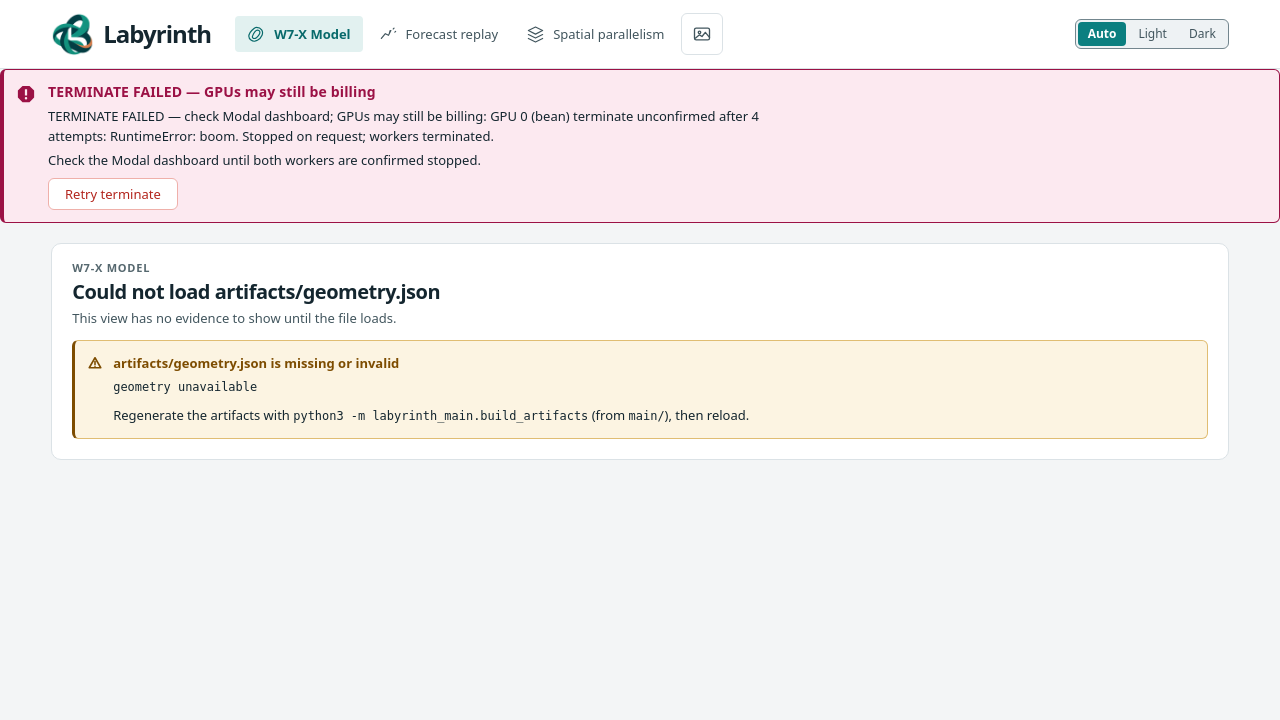
Test case: FE2-1 a view that fails to render during a billing risk leaves the Terminate above it working
The width and height of the screenshot is (1280, 720).
Expected: the heading "Could not load artifacts/geometry.json" is shown, [72,278,440,306]
Click the button "Retry terminate" at (113, 194), box [48,178,178,210]
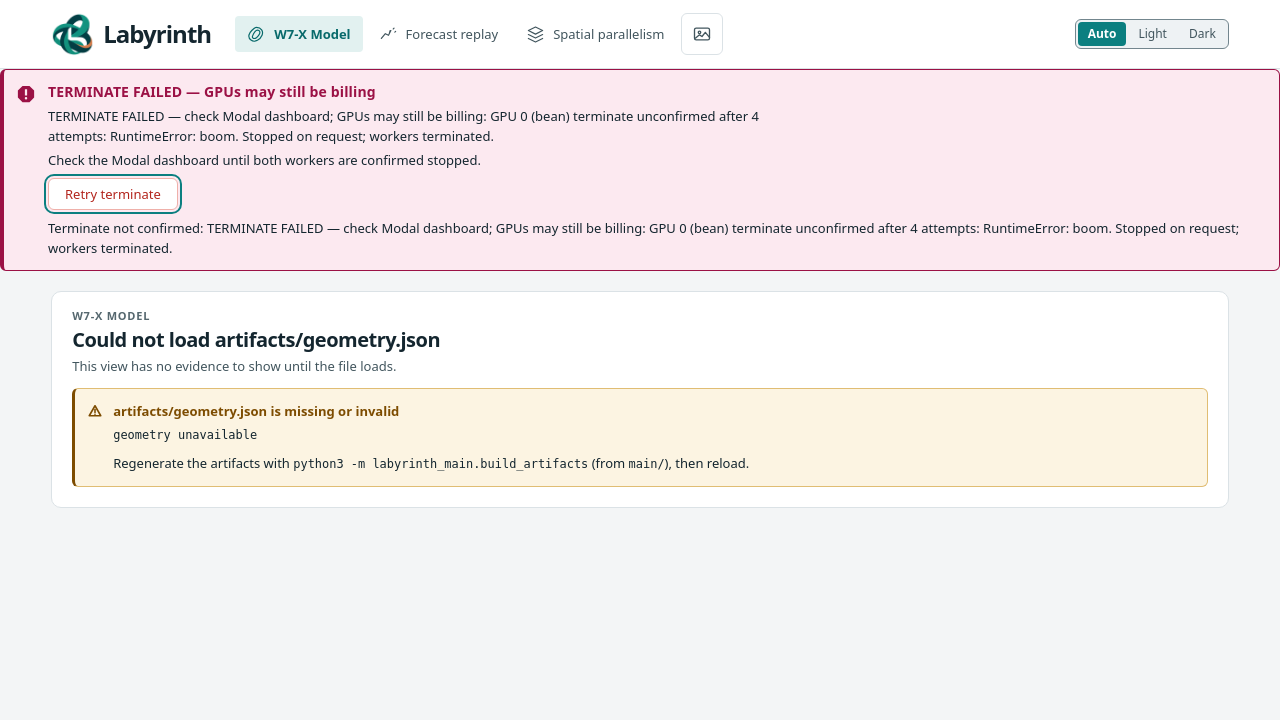
Click the button "Retry terminate" at (113, 194), box [48,178,178,210]
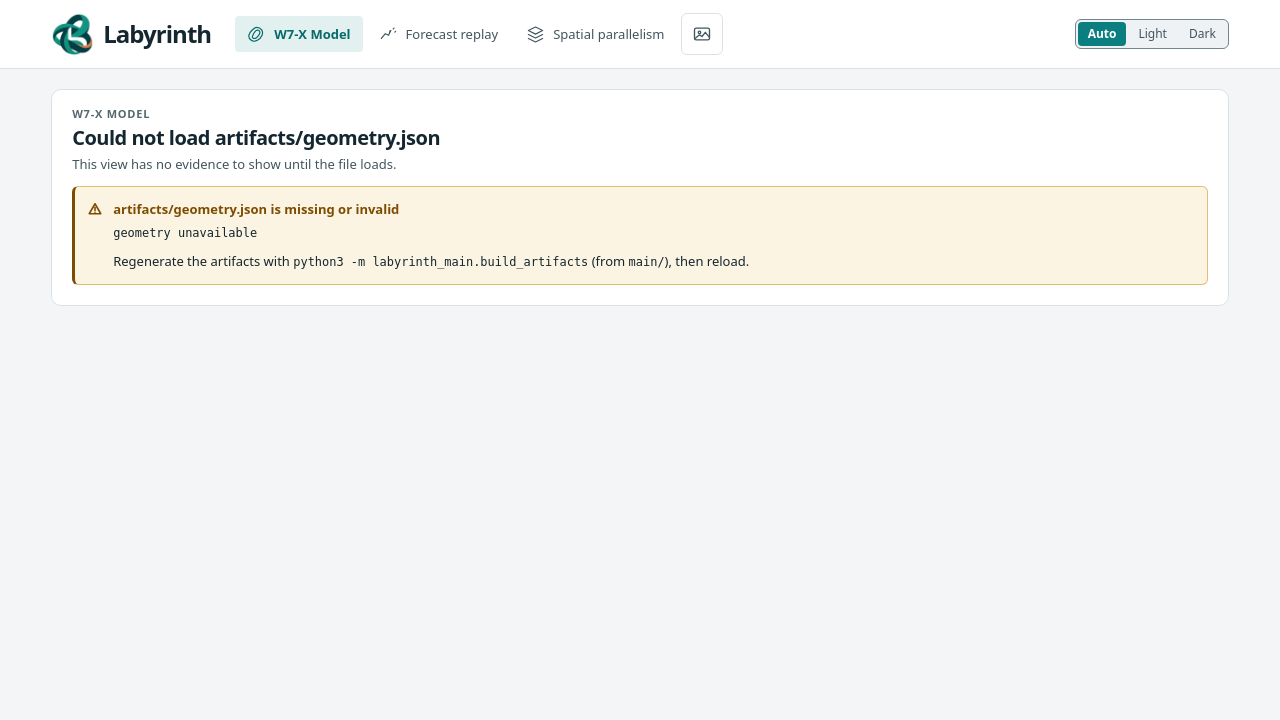
Now the message is gone
